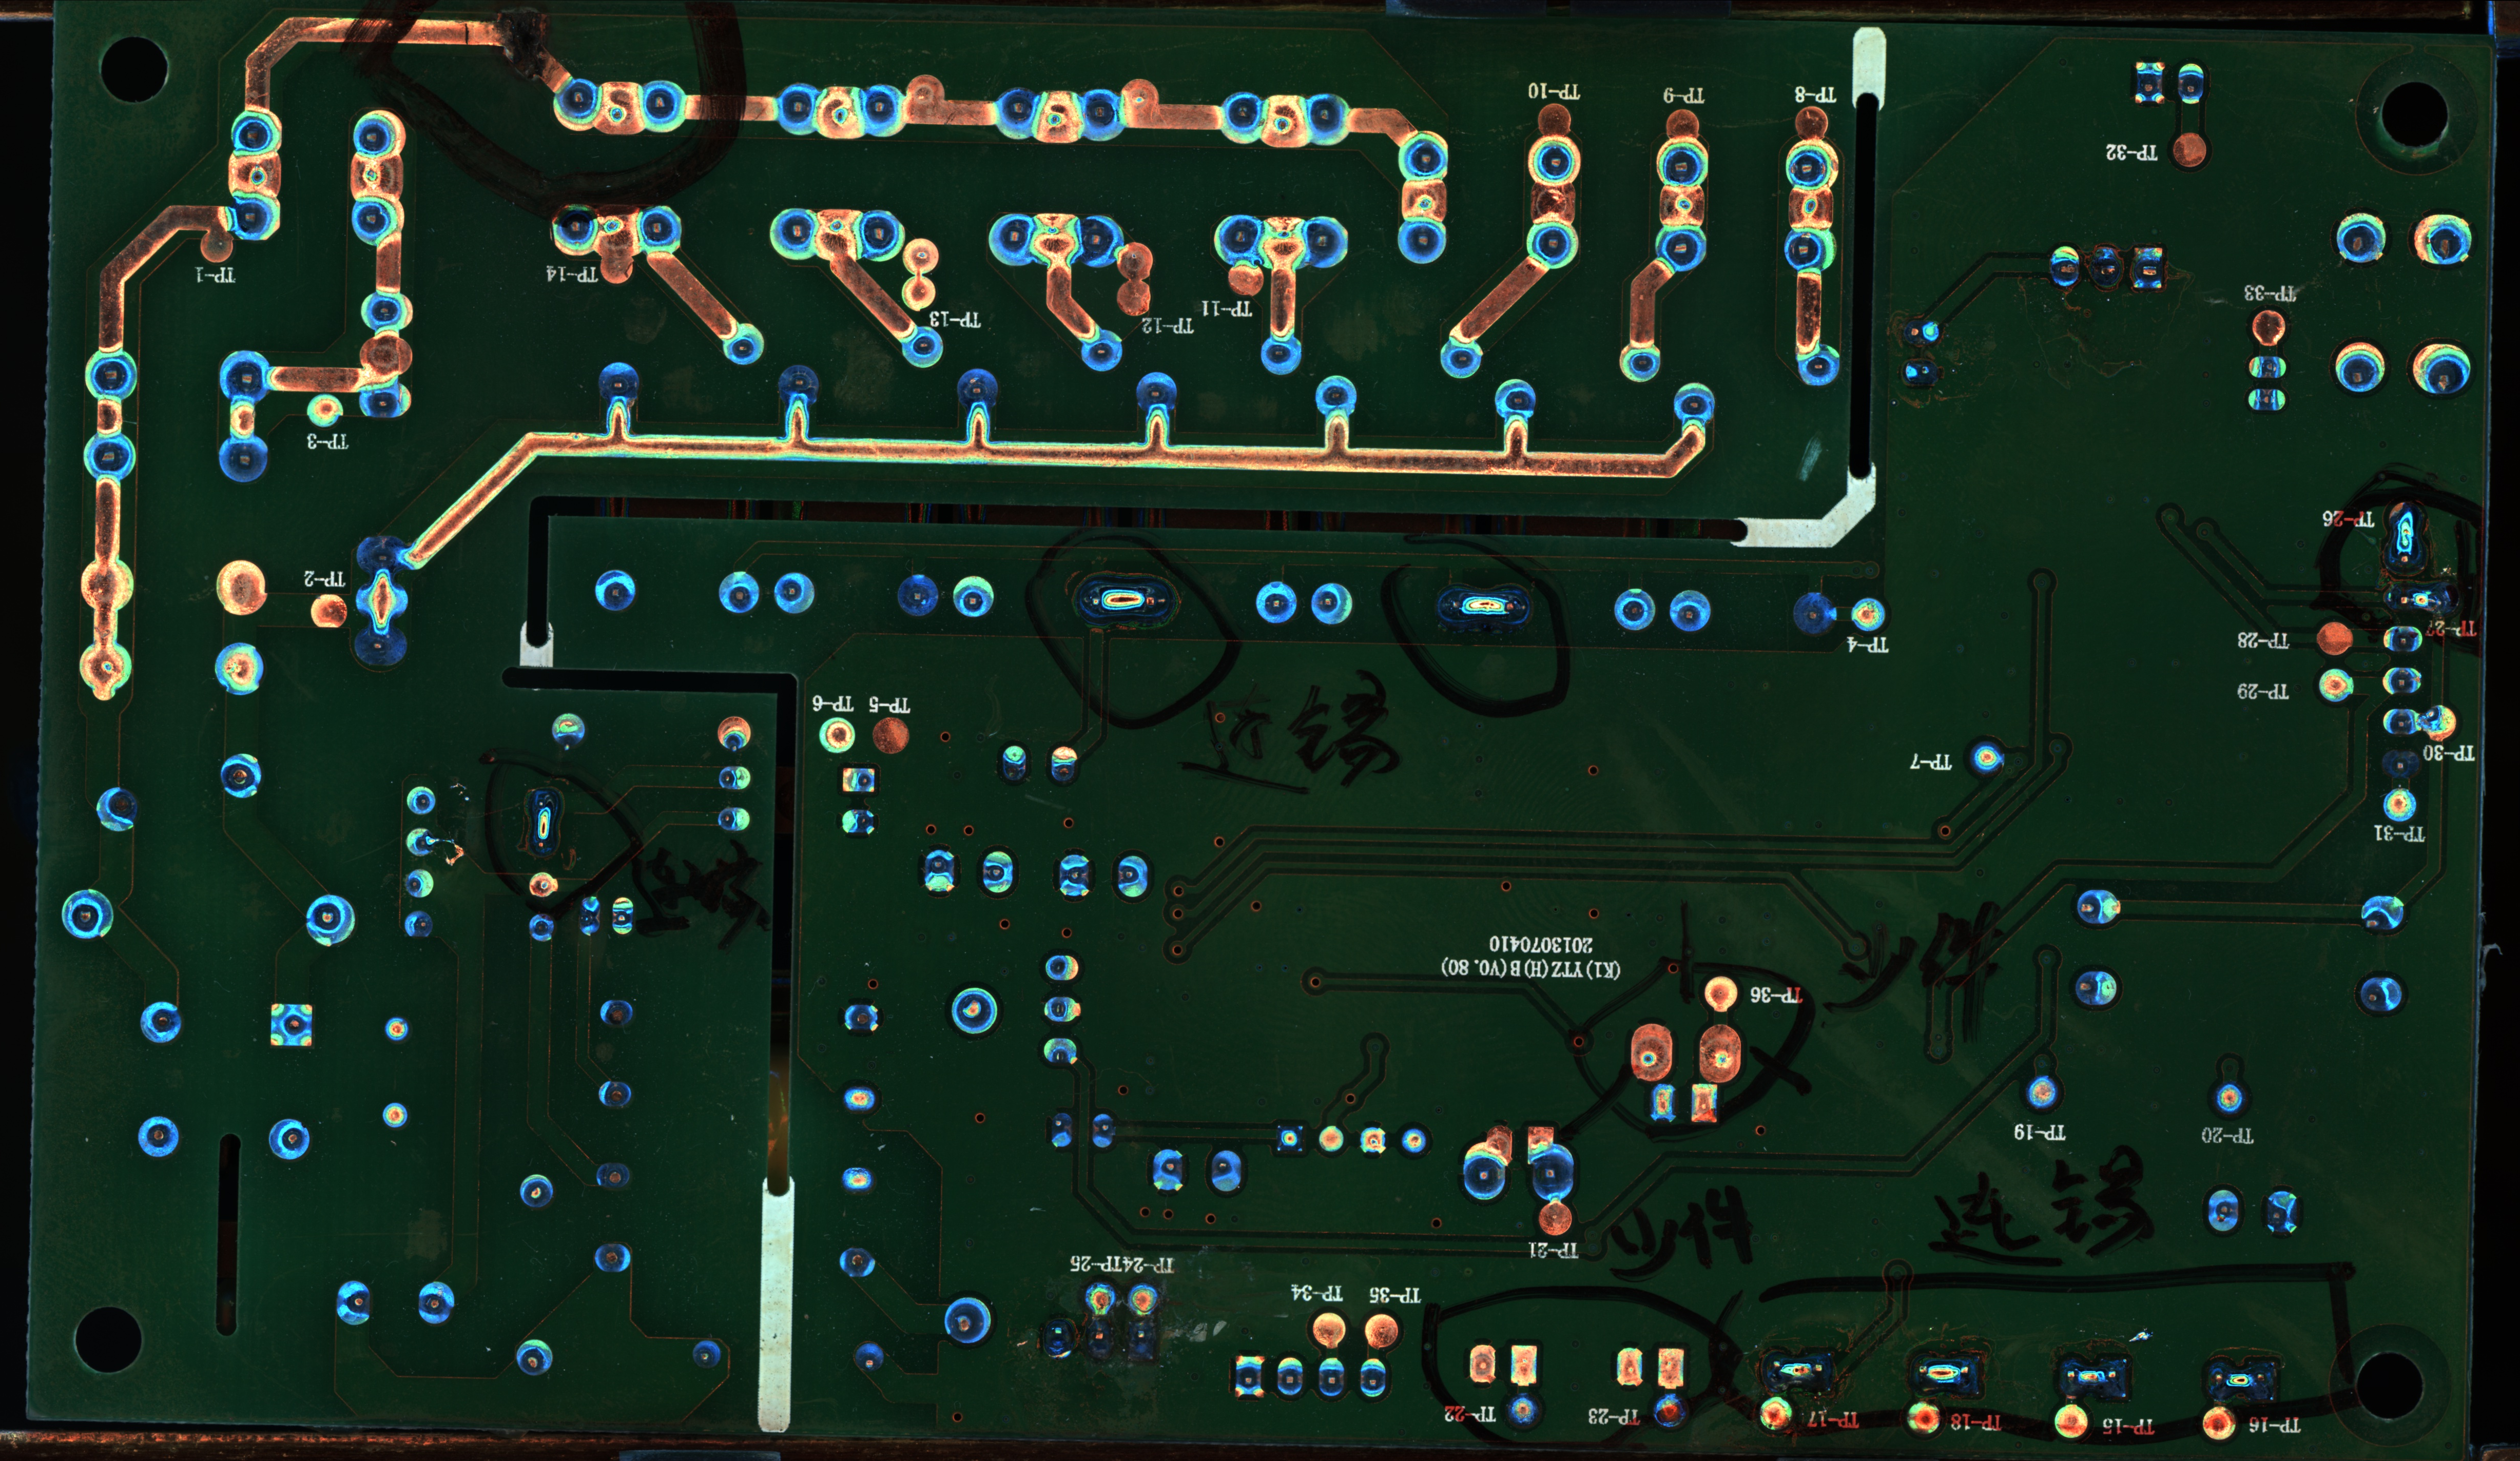continuous tin: (1068, 572, 1179, 633), (1430, 577, 1532, 638), (1755, 1341, 1838, 1397), (2198, 1351, 2282, 1407), (1904, 1344, 1986, 1400), (2052, 1348, 2136, 1400), (2381, 496, 2428, 579), (522, 784, 563, 859), (2379, 583, 2461, 616)
missing part: (1506, 1338, 1541, 1388), (1654, 1341, 1687, 1391), (1612, 1341, 1645, 1390), (1466, 1339, 1497, 1388)
